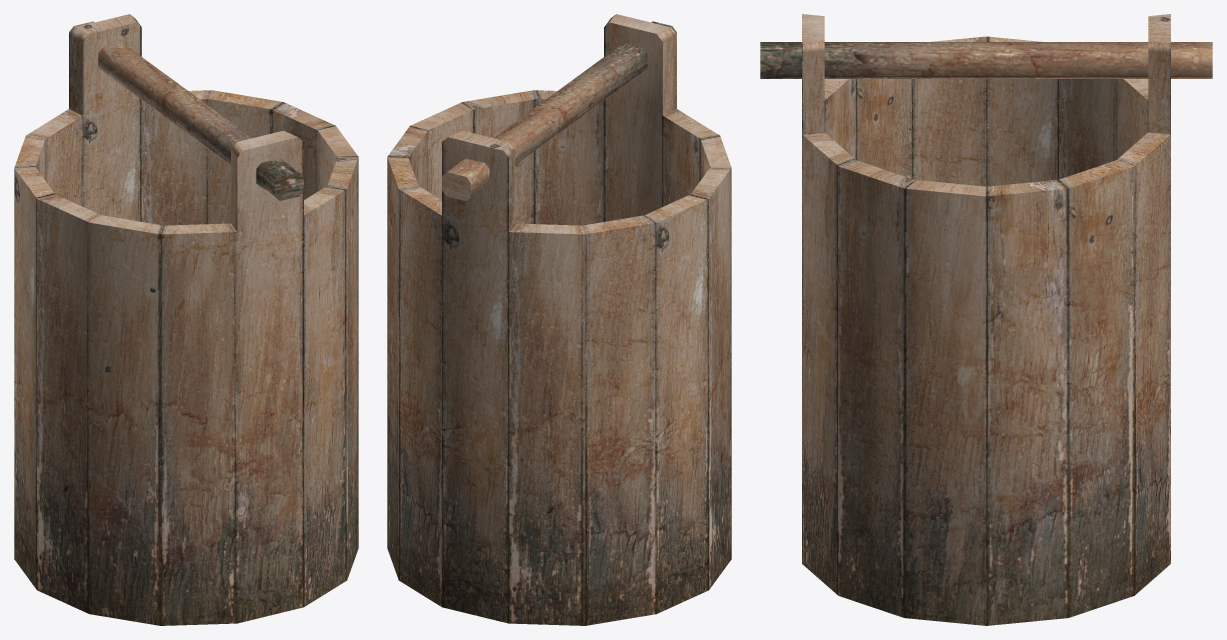
Rendered from Bucket1.fbx.
3 views of the same model, side by side, from view 1: azimuth 30°, elevation 25°; view 2: azimuth 150°, elevation 25°; view 3: azimuth 270°, elevation 25° (orthographic). The views are drawn at different scales.
Visible parts, largest first — view 1: polySurface41; view 2: polySurface41; view 3: polySurface41.
Boxes of the visible parts, x1=… form: polySurface41: x1=14, y1=14, x2=358, y2=625; polySurface41: x1=387, y1=14, x2=731, y2=625; polySurface41: x1=760, y1=14, x2=1212, y2=625.
Bounding box in the file's own units: 0.4448 × 0.6704 × 0.531.
